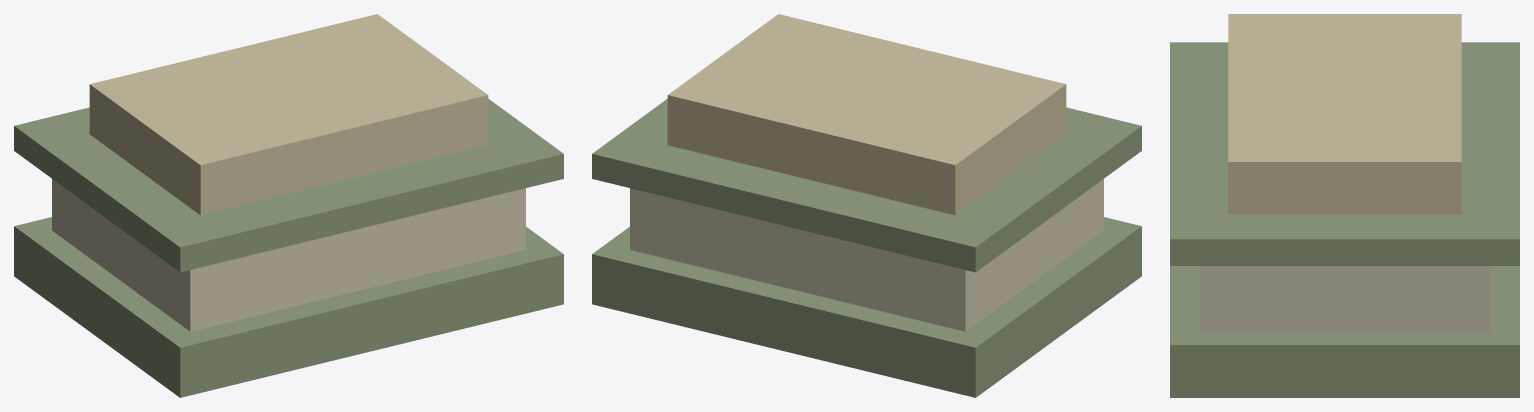
File: productivity-04.glb
The picture shows the model from 3 angles, left to right: view 1: azimuth 30°, elevation 25°; view 2: azimuth 150°, elevation 25°; view 3: azimuth 270°, elevation 25°; orthographic projection. The views are drawn at different scales.
Visible parts, largest first — view 1: Notebook; view 2: Notebook; view 3: Notebook.
Boxes of the visible parts, box(x1,y1,x2,y2) form: Notebook: box(14, 14, 563, 397); Notebook: box(592, 14, 1141, 397); Notebook: box(1170, 14, 1519, 397).
Size of the model in its own units: 1.28 by 0.64 by 0.96.
